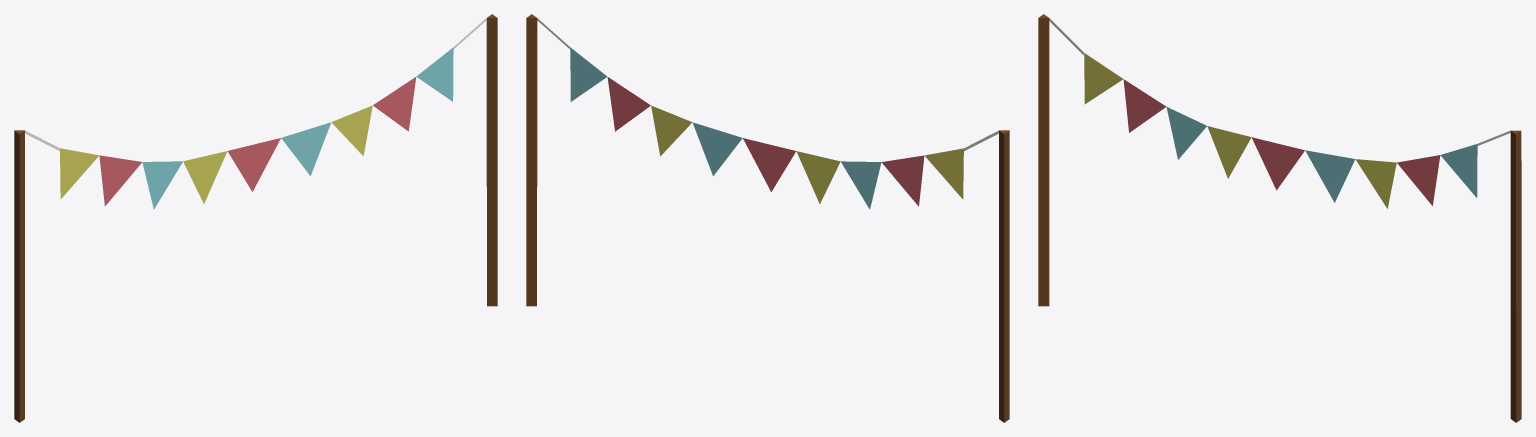
The model's file is FLAGARCH_V2.fbx.
3 renders of one model, left to right at view 1: azimuth 30°, elevation 25°; view 2: azimuth 150°, elevation 25°; view 3: azimuth 330°, elevation 25°, orthographic.
Visible parts, largest first — view 1: Cylinder.001; view 2: Cylinder.001; view 3: Cylinder.001.
Part boxes in pixels (x1,y1,x2,y2): Cylinder.001: (14, 14, 497, 422); Cylinder.001: (526, 14, 1009, 422); Cylinder.001: (1038, 14, 1521, 422).
Size of the model in its own units: 1224 by 706 by 23.97.
